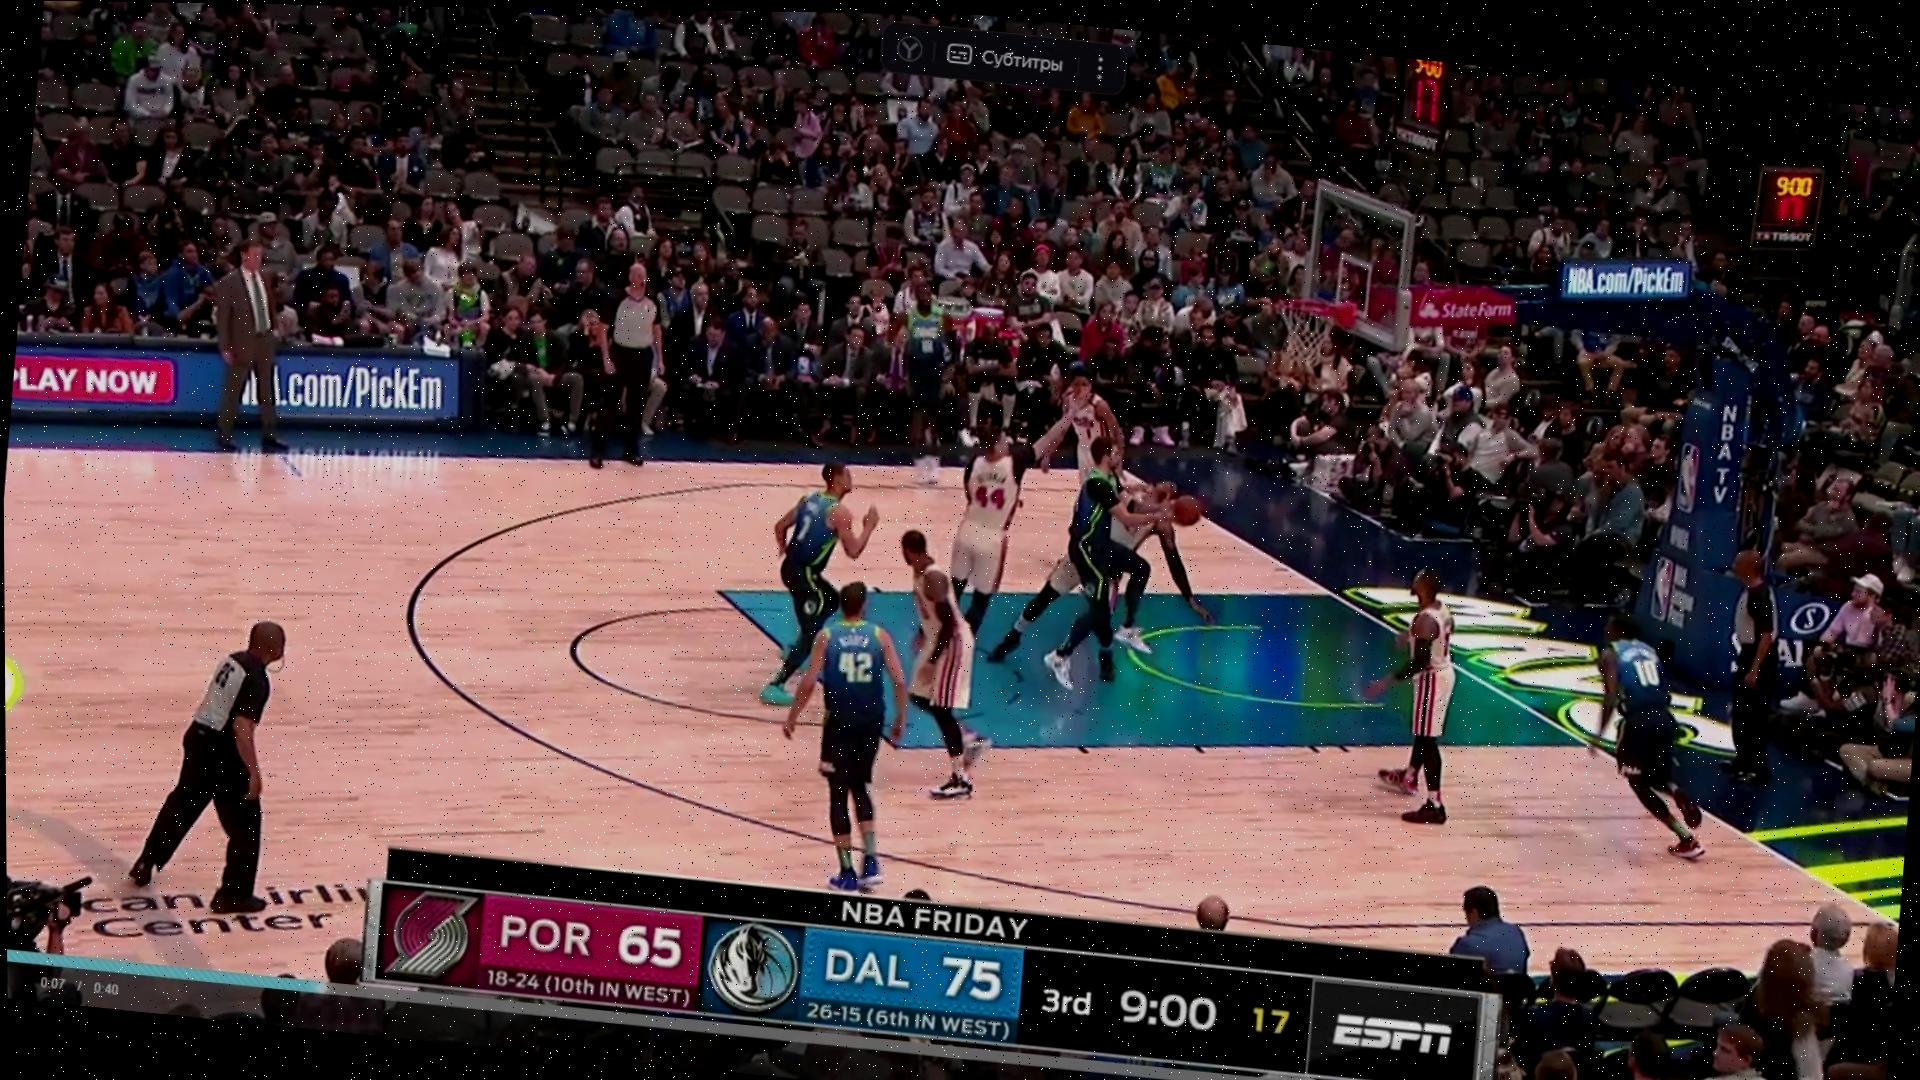foul: (1006, 430, 1246, 709)
